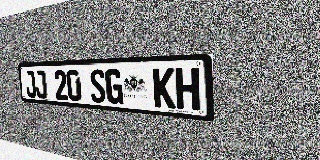0: (66, 69, 82, 101)
2: (54, 70, 68, 100)
G: (105, 69, 123, 105)
H: (175, 67, 200, 111)
J: (34, 70, 47, 99), (24, 70, 37, 98)
K: (153, 68, 175, 109)
S: (89, 69, 107, 103)
